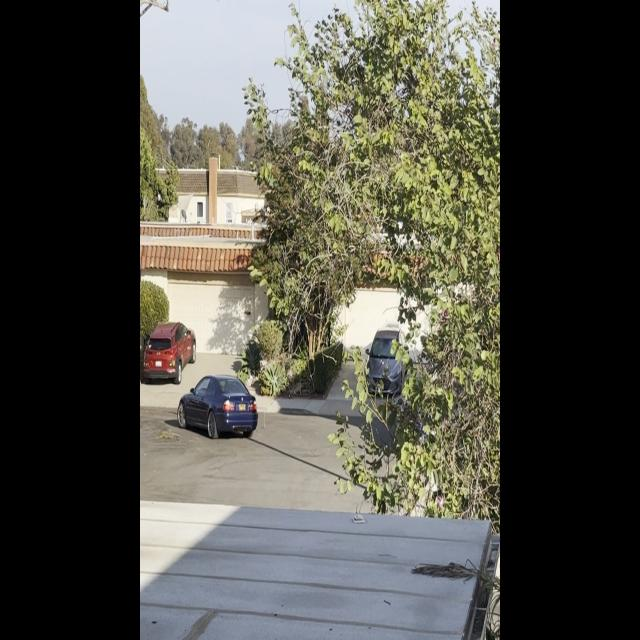Carbeetle: (178, 374, 260, 444)
Civilian: (361, 321, 408, 402), (144, 313, 196, 386)
